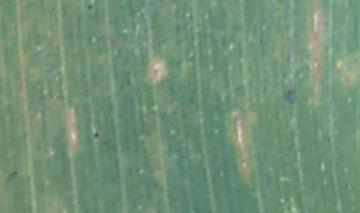tarspot: (283, 87, 295, 104), (5, 168, 20, 179), (151, 65, 159, 78), (92, 130, 100, 140), (105, 18, 114, 26), (86, 3, 94, 11)
